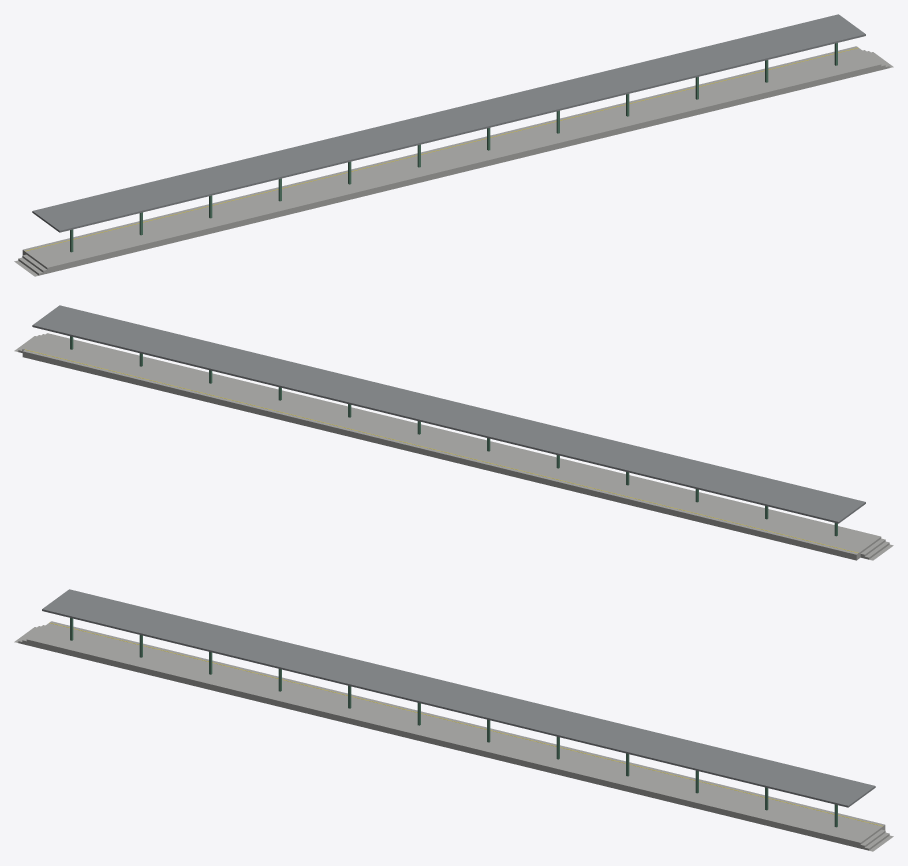
File: station-platform.station-v1.lod0.glb
3 renders of one model, top to bottom at view 1: azimuth 30°, elevation 25°; view 2: azimuth 150°, elevation 25°; view 3: azimuth 330°, elevation 25°, orthographic.
Visible parts, largest first — view 1: station-platform; view 2: station-platform; view 3: station-platform.
Part boxes in pixels (x1,y1,x2,y2): station-platform: (14, 14, 893, 276); station-platform: (14, 305, 893, 560); station-platform: (14, 589, 893, 851).
Size of the model in its own units: 124 by 5.25 by 7.2.
